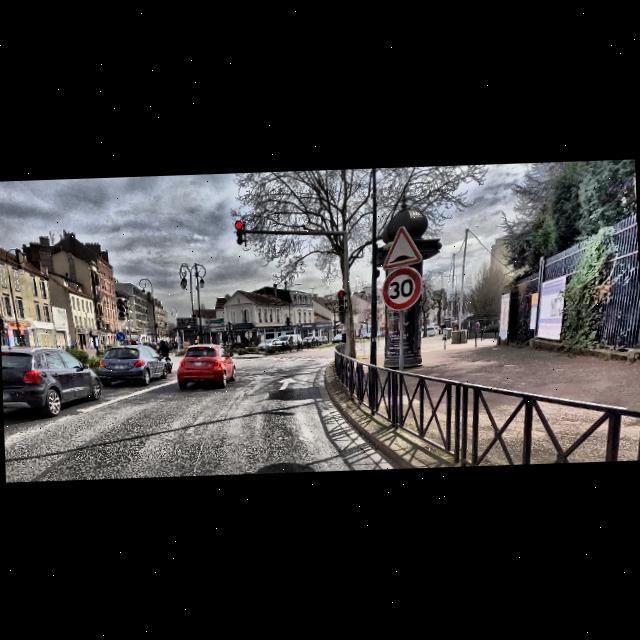speed_30: (380, 264, 424, 310)
